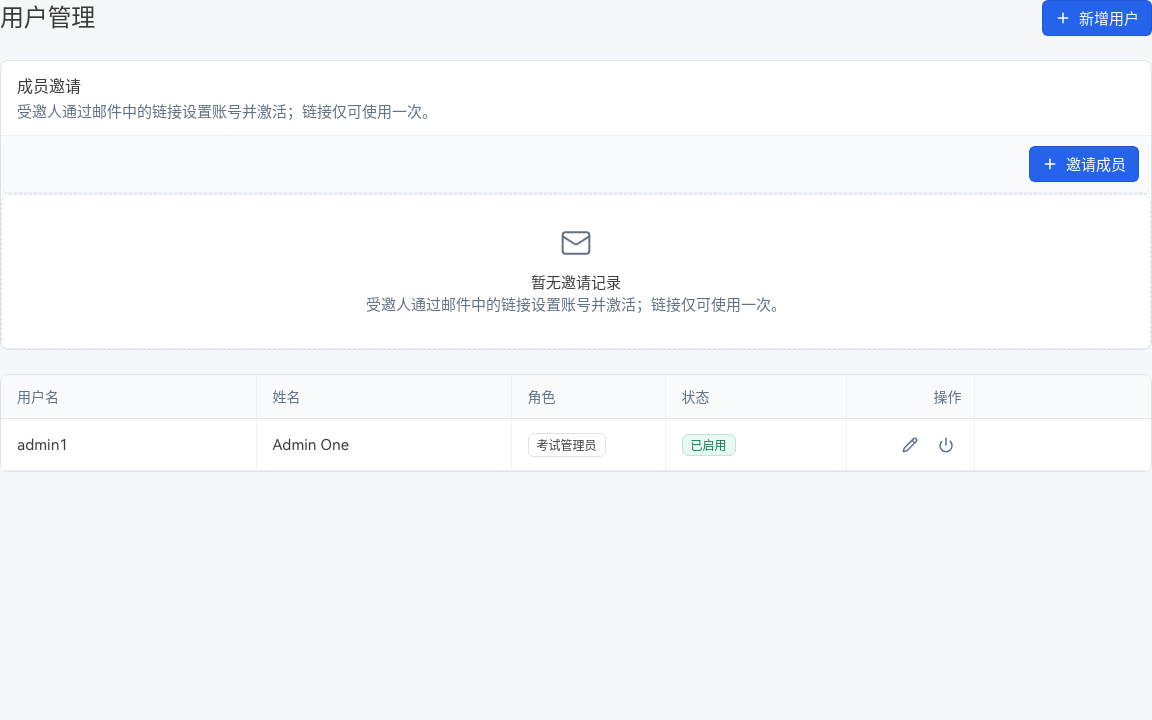
UsersPage › role selector reflects exactly what /roles/assignable returns (F-01 catalog authority)
Click the button "新增用户": (1097,18) [1042, 0, 1151, 36]
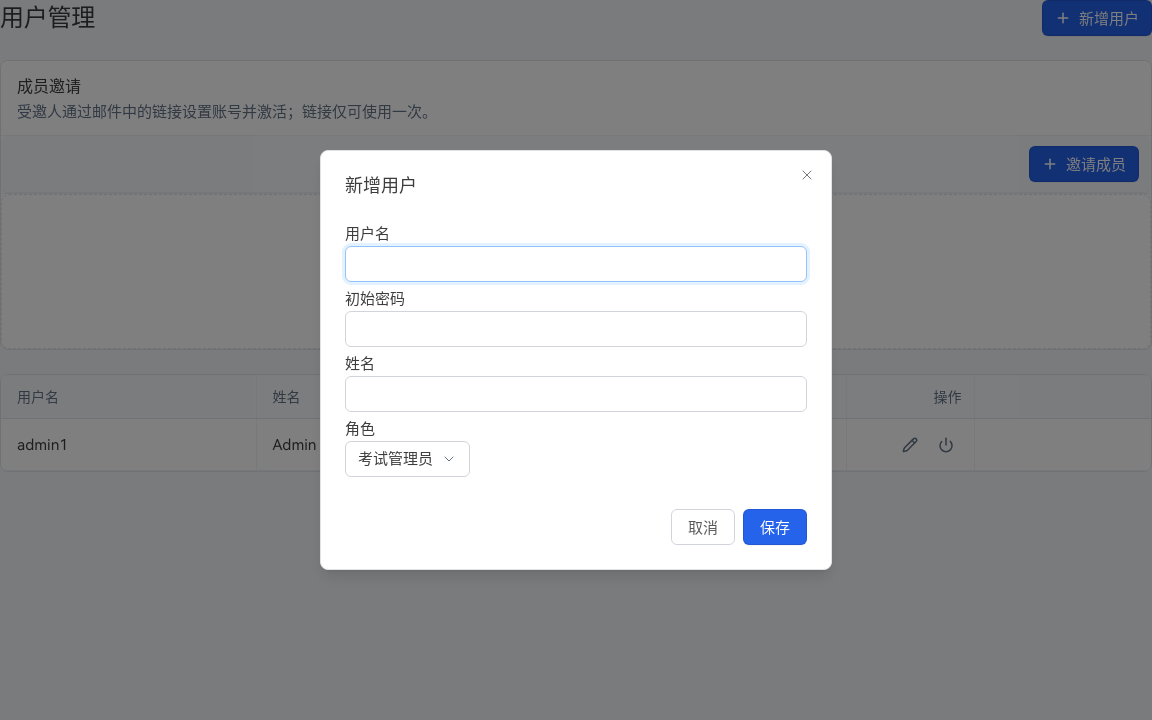
Click the dropdown: (408,459) [345, 441, 470, 477]
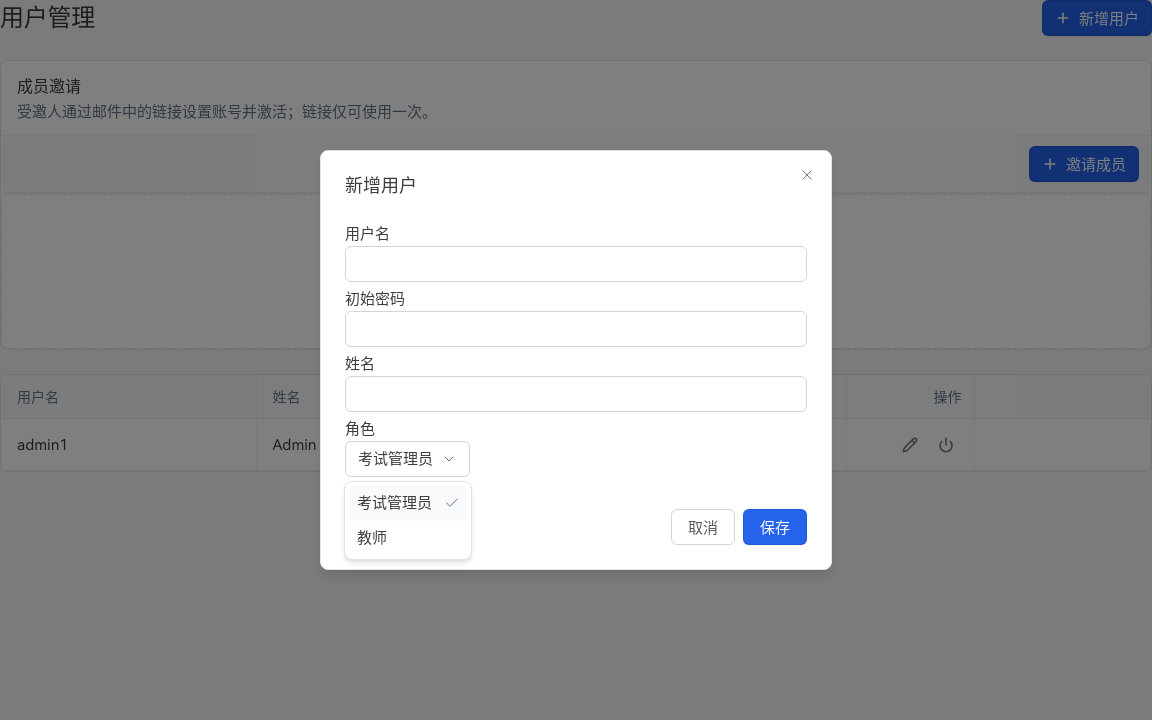
Result: the option "考试管理员" is shown at [349, 486, 467, 520]
Result: the option "教师" is shown at [357, 528, 387, 546]
